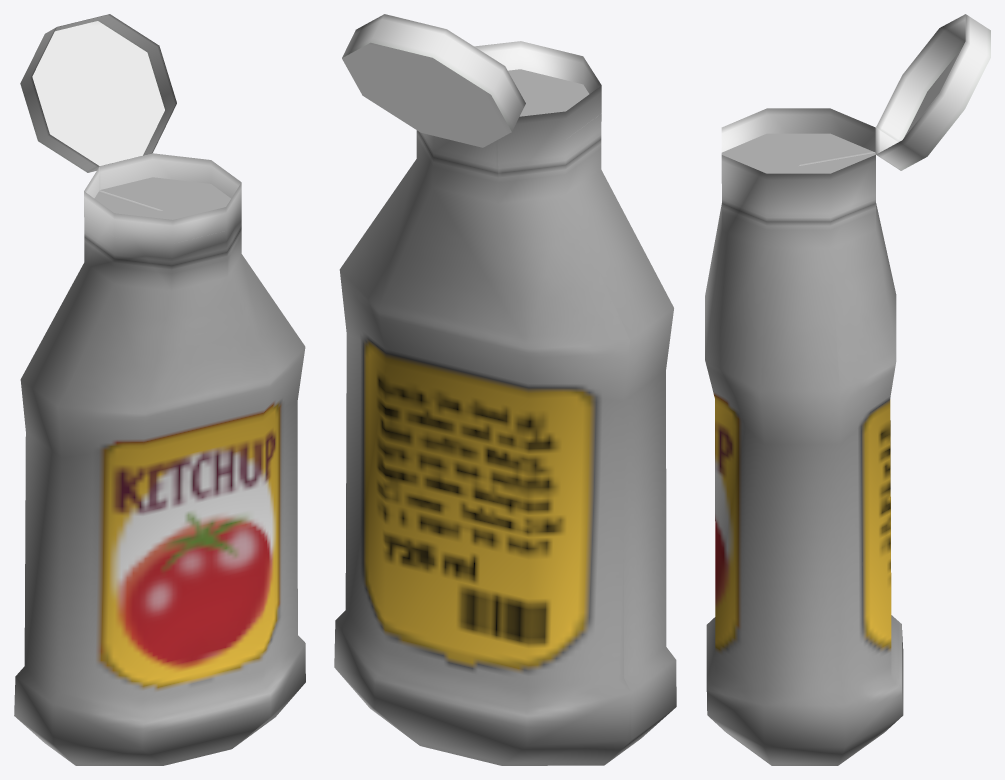
File: KetchupEmpty.fbx
3 renders of one model, left to right at view 1: azimuth 30°, elevation 25°; view 2: azimuth 150°, elevation 25°; view 3: azimuth 270°, elevation 25°, orthographic. The views are drawn at different scales.
Parts seen in each view (by area): view 1: Ketchup001.001; view 2: Ketchup001.001; view 3: Ketchup001.001.
Boxes of the visible parts, x1,y1,x2,y2 form: Ketchup001.001: (14, 14, 305, 765); Ketchup001.001: (334, 14, 676, 765); Ketchup001.001: (705, 14, 990, 765).
Size of the model in its own units: 19.9 by 49.1 by 18.52.
